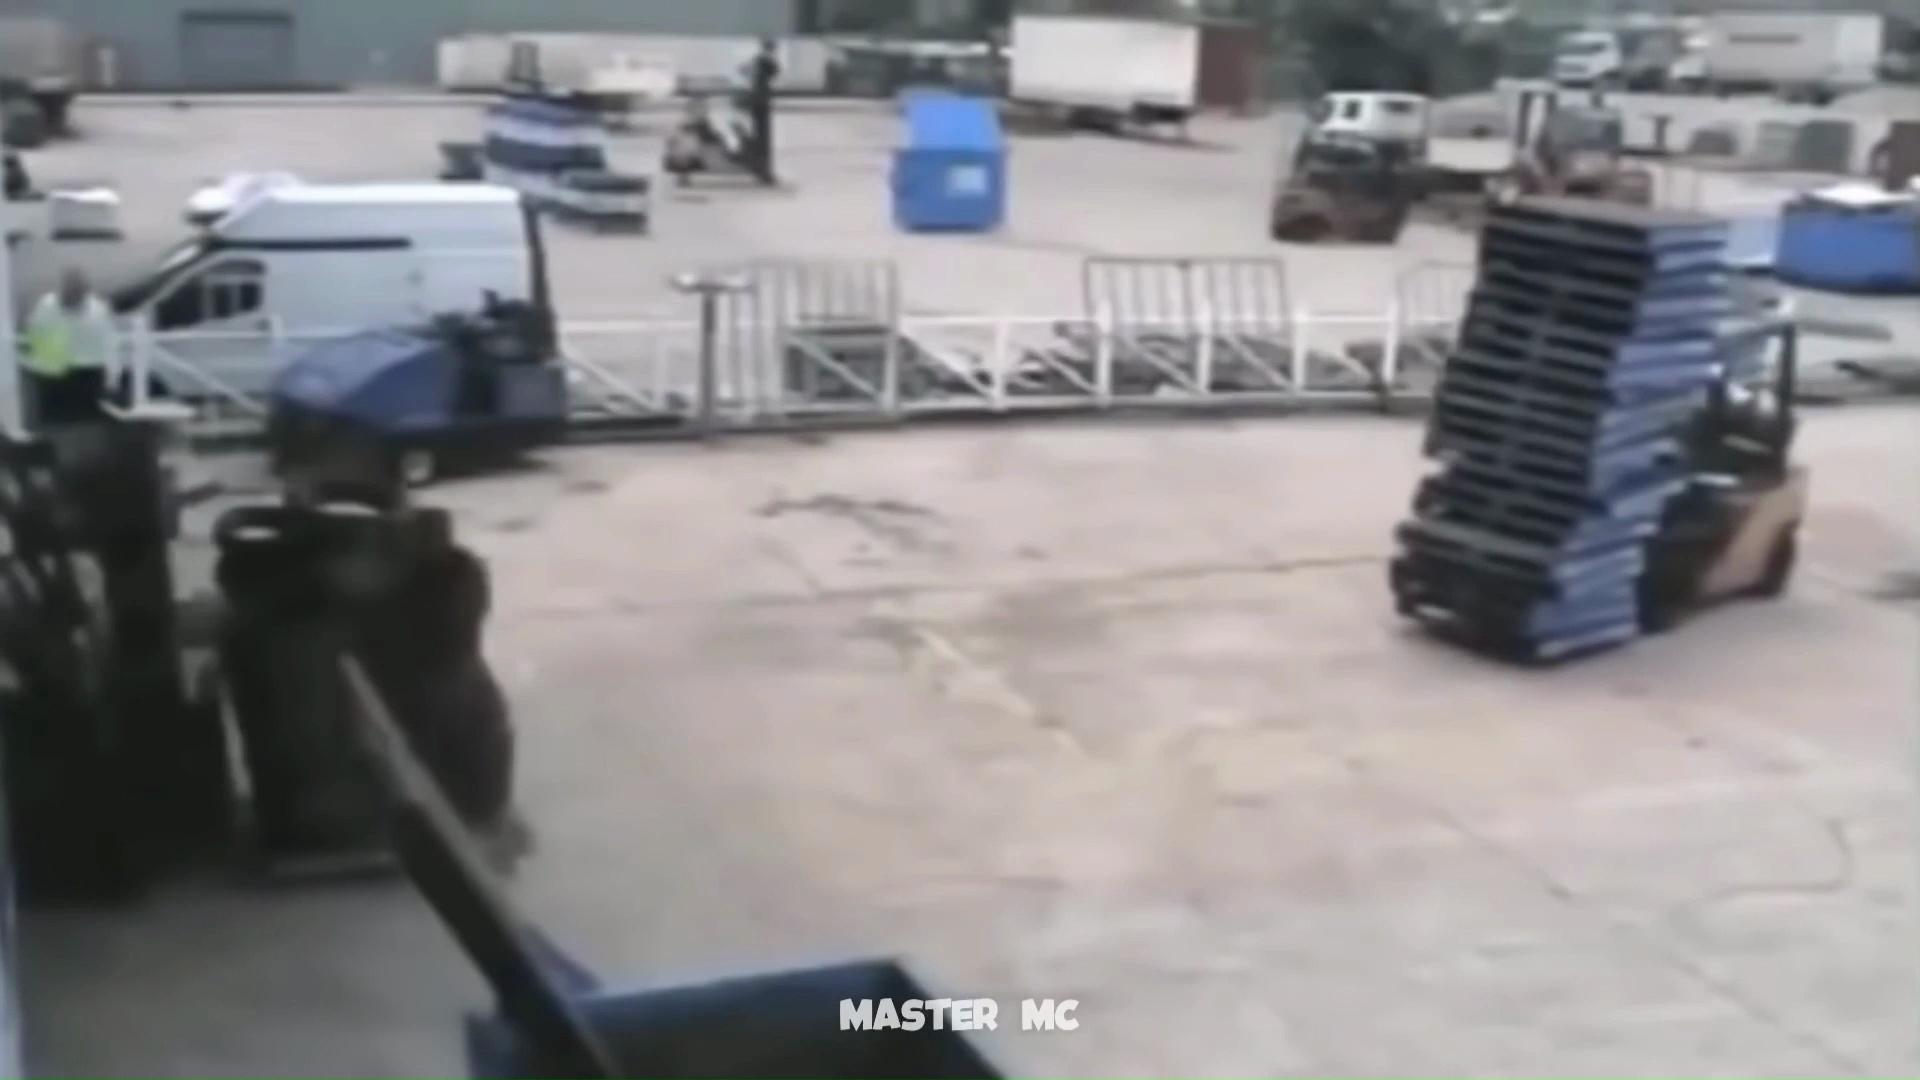forklift: (4, 413, 539, 878), (1377, 204, 1820, 669)
